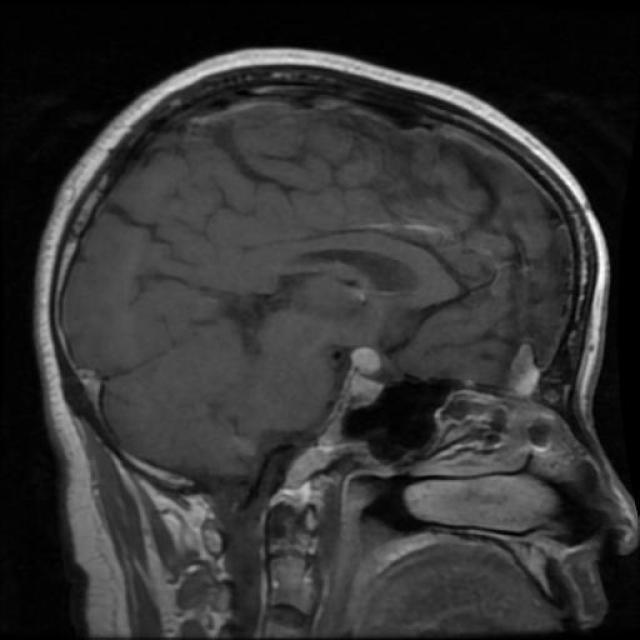pituitary: (318, 317, 394, 398)
